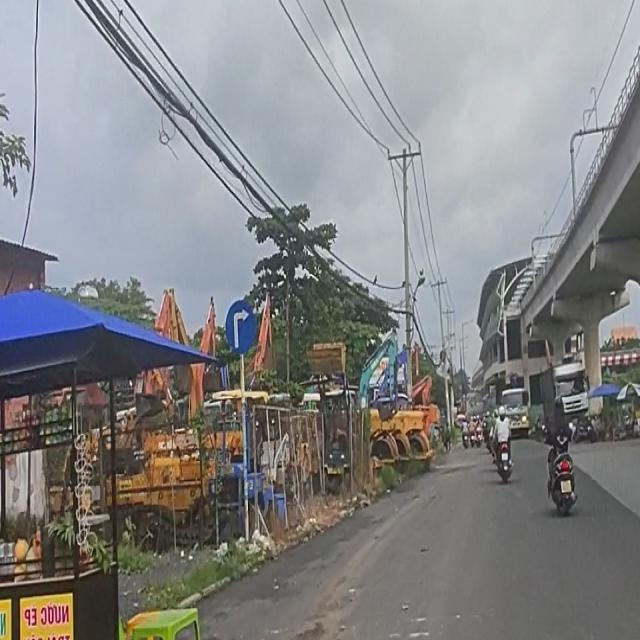R.301e: (224, 300, 258, 354)
